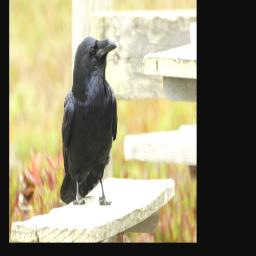Crow: (60, 36, 119, 206)
